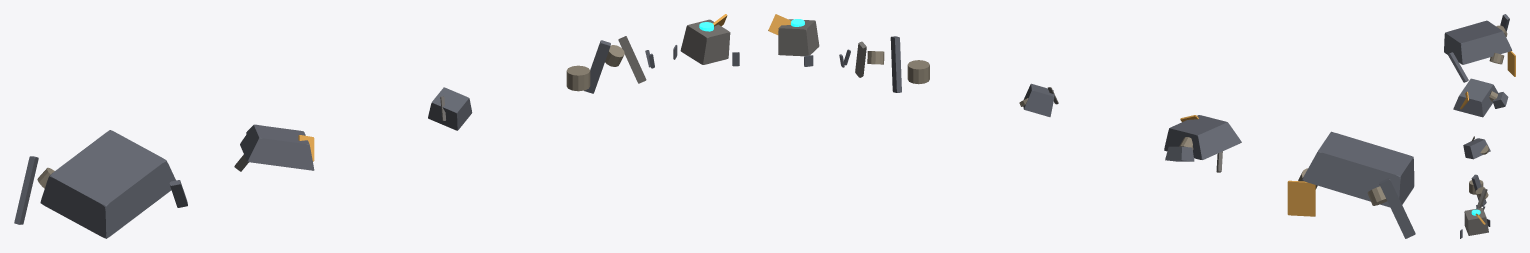
The model's file is lattice_wrecks.glb.
The picture shows the model from 3 angles, left to right: view 1: azimuth 30°, elevation 25°; view 2: azimuth 150°, elevation 25°; view 3: azimuth 270°, elevation 25°; orthographic projection. The views are drawn at different scales.
Visible parts, largest first — view 1: Survey_MainHull, Maint_Hull, Core_Case, Sensor_Housing, Survey_LegLimb_1, Arm_BasePivot, Arm_UpperBeam, Arm_ForearmBeam; view 2: Survey_MainHull, Maint_Hull, Core_Case, Survey_DetachedPlate, Survey_LegLimb_1, Sensor_Housing, Arm_UpperBeam, Arm_BasePivot, Maint_BrokenHead; view 3: Survey_MainHull, Maint_Hull, Core_Case, Sensor_Housing, Survey_LegLimb_2, Survey_DetachedPlate, Maint_BrokenHead, Arm_UpperBeam, Survey_HipR1, Survey_LegLimb_1, Arm_ForearmBeam, Arm_BasePivot (+6 smaller).
Boxes of the visible parts, x1,y1,x2,y2 form: Survey_MainHull: [40, 130, 175, 238]; Maint_Hull: [240, 124, 314, 170]; Core_Case: [680, 19, 730, 64]; Sensor_Housing: [428, 87, 472, 130]; Survey_LegLimb_1: [14, 156, 38, 224]; Arm_BasePivot: [566, 65, 590, 91]; Arm_UpperBeam: [584, 40, 610, 93]; Arm_ForearmBeam: [618, 36, 646, 83]; Survey_MainHull: [1302, 131, 1414, 207]; Maint_Hull: [1164, 115, 1241, 159]; Core_Case: [778, 19, 819, 56]; Survey_DetachedPlate: [1287, 180, 1315, 216]; Survey_LegLimb_1: [1379, 178, 1415, 238]; Sensor_Housing: [1023, 83, 1054, 116]; Arm_UpperBeam: [890, 36, 901, 92]; Arm_BasePivot: [907, 60, 929, 84]; Maint_BrokenHead: [1165, 146, 1194, 161]; Survey_MainHull: [1444, 20, 1512, 64]; Maint_Hull: [1453, 78, 1497, 117]; Core_Case: [1464, 208, 1488, 235]; Sensor_Housing: [1463, 138, 1490, 159]; Survey_LegLimb_2: [1448, 52, 1468, 82]; Survey_DetachedPlate: [1507, 51, 1515, 76]; Maint_BrokenHead: [1492, 92, 1508, 108]; Arm_UpperBeam: [1471, 174, 1486, 206]; Survey_HipR1: [1489, 53, 1504, 64]; Survey_LegLimb_1: [1500, 14, 1509, 31]; Arm_ForearmBeam: [1476, 188, 1487, 208]; Arm_BasePivot: [1469, 180, 1483, 194].
Bounding box in the file's own units: 16.34 × 1.59 × 2.42.
